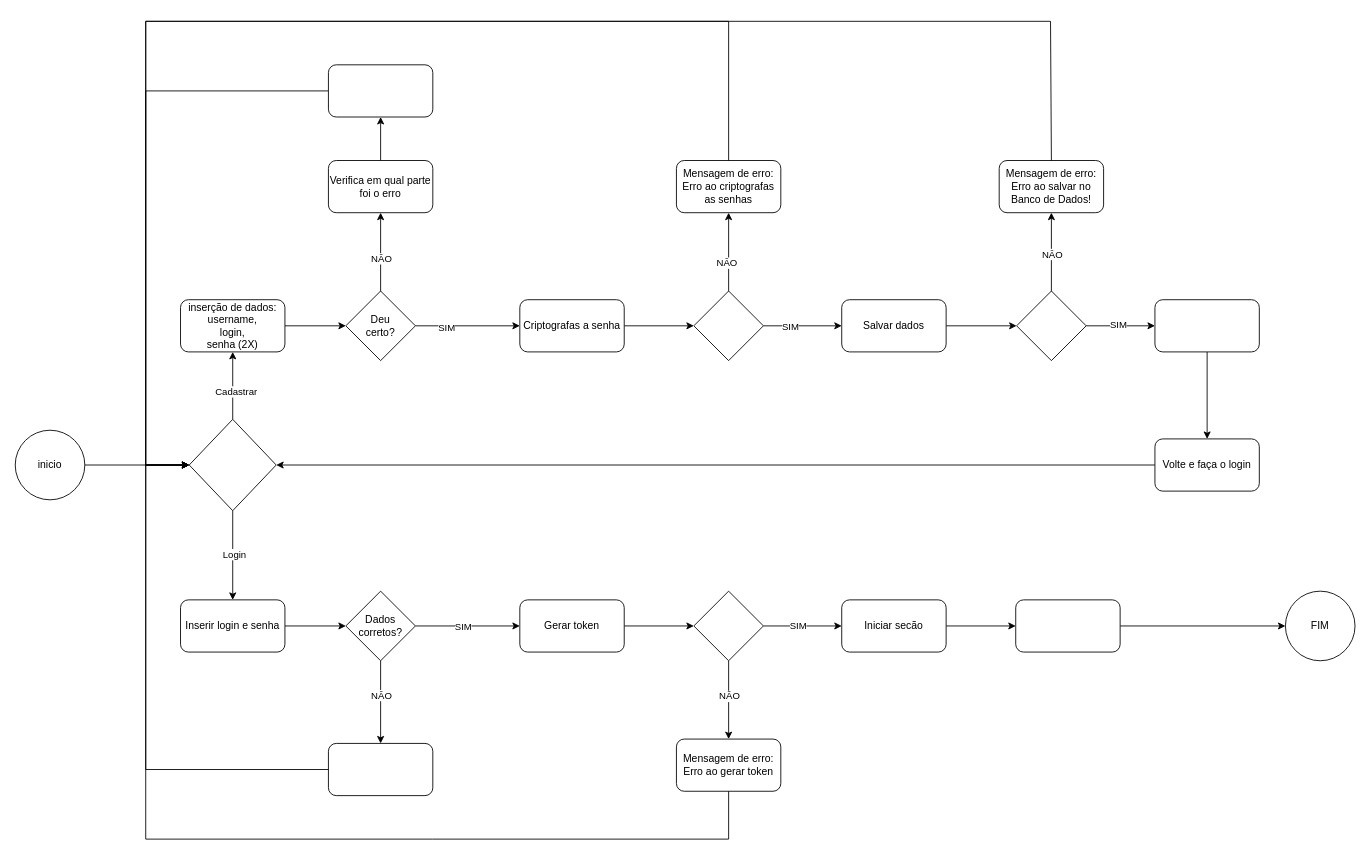
The diagram is 1370 pixels wide and 861 high, and some of its shapes have lost their labels. Each missing label, with the centre of its shape:
"Cadastrar-se ou Fazer Login" belongs at point 232,464.
"Criptografou?" belongs at point 728,325.
"Gerou?" belongs at point 728,625.
"Mensagem de erro: Erro no login, senha ou username" belongs at point 380,90.
"Mensagem de erro: Login ou senha incorretos!" belongs at point 380,769.
"Mensagem de sucesso: Dados Salvos no Banco de Dados!" belongs at point 1206,325.
"O usuário é direcionado para a pagina principal" belongs at point 1067,625.
"Salvou?" belongs at point 1051,325.
